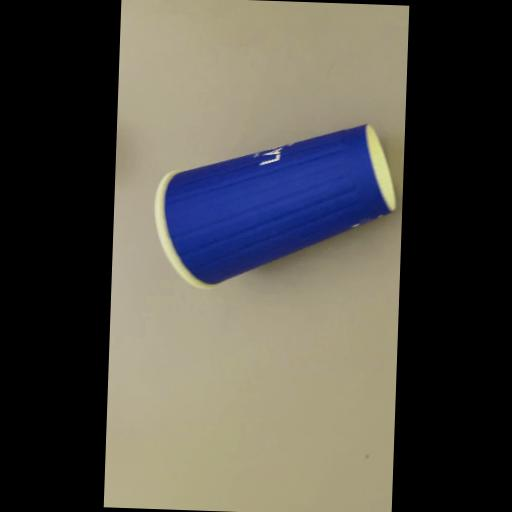lp_paper_cup: (150, 114, 401, 302)
